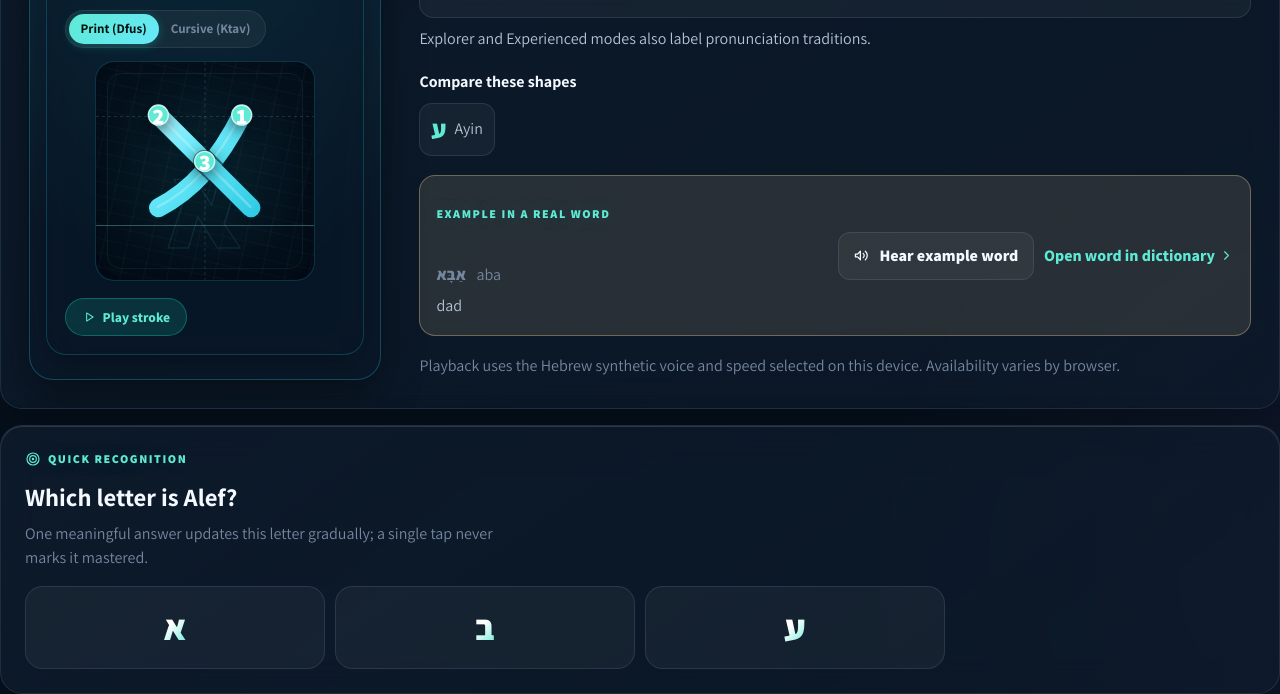
it: AlphabetStudio › refreshes an authoritative activity after a stale conflict and discards its idempotency key
The image size is (1280, 694).
(page scrolled)
Click the button named "Option 1: א". click: [175, 628]
box: [25,586,325,669]
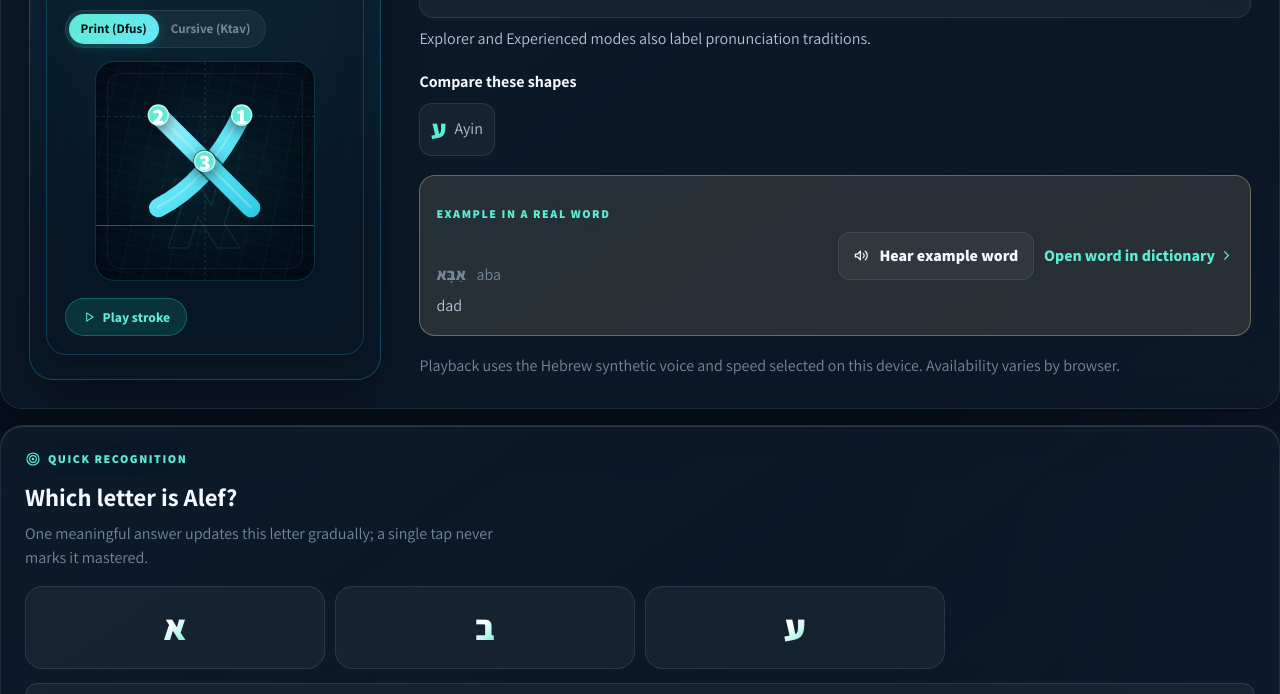
Click the button named "Option 1: א". click: [175, 628]
box: [25,586,325,669]
(page scrolled)
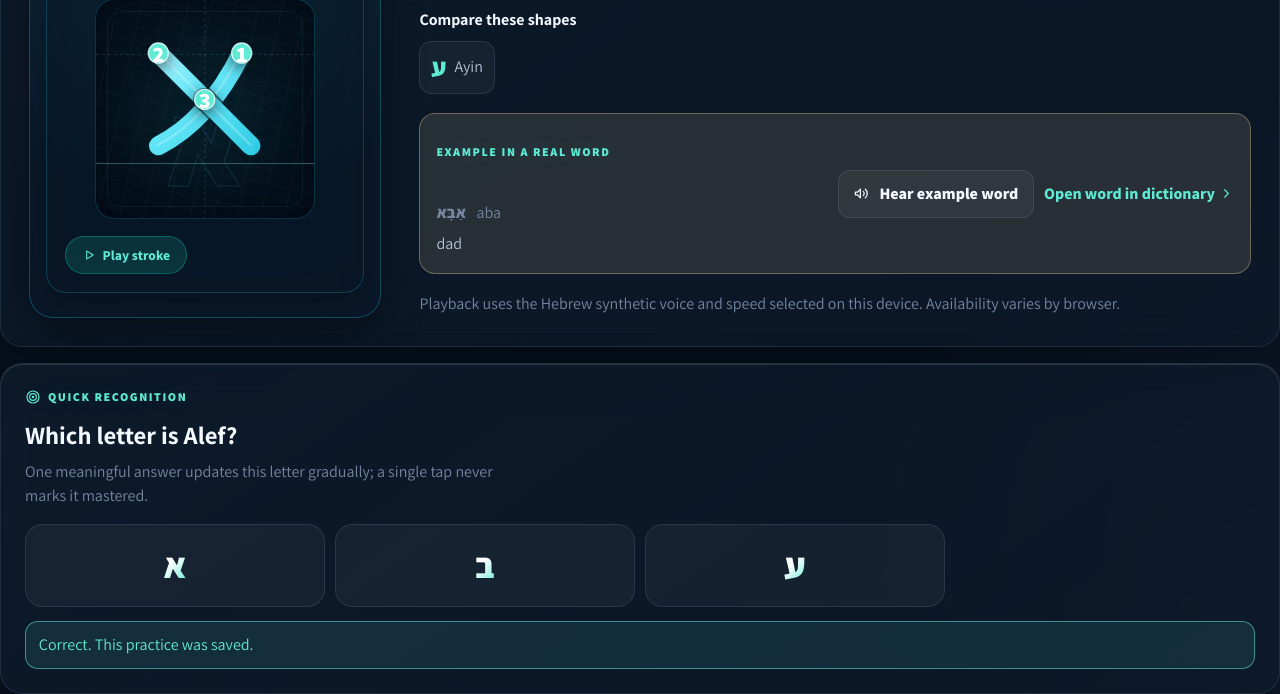
Expected: the text "Correct. This practice was saved." is shown, [25,621,1255,669]
